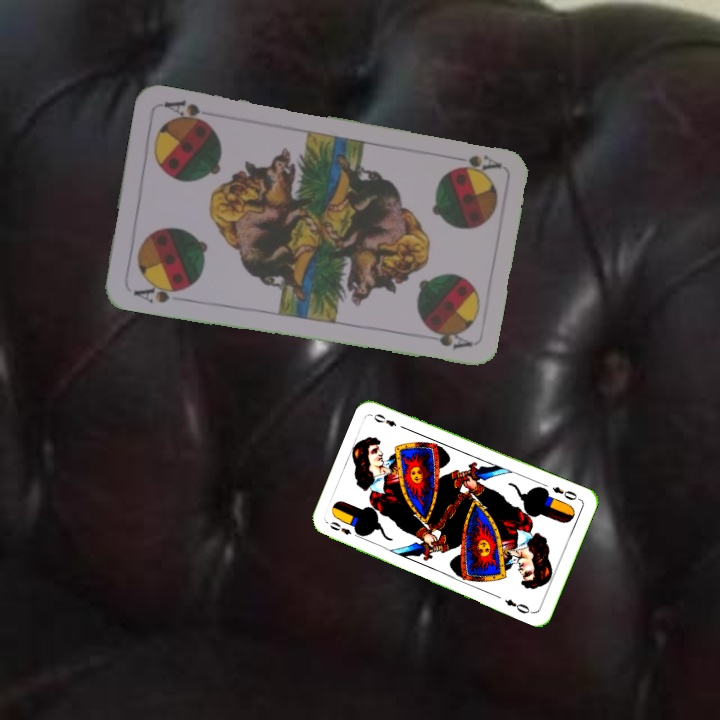EO: (325, 517, 363, 541), (548, 482, 583, 503)
SA: (129, 278, 187, 306), (444, 151, 504, 177)
